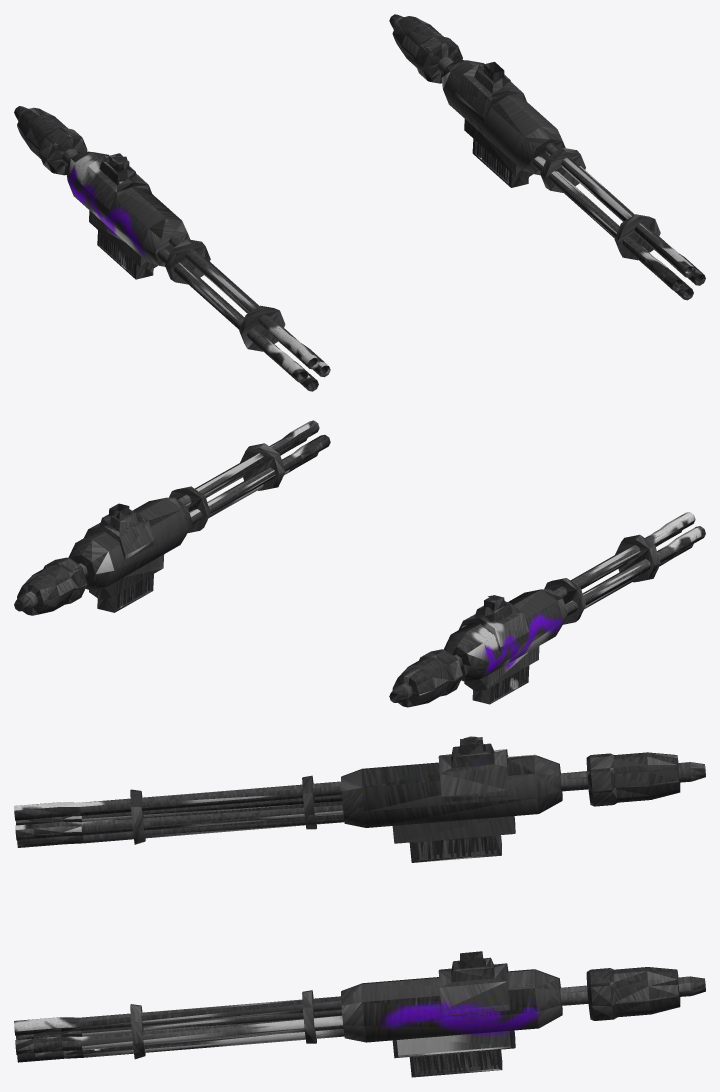
The model's file is LowerCannons_new.obj.
3 views of the same model, one above another, from view 1: azimuth 30°, elevation 25°; view 2: azimuth 150°, elevation 25°; view 3: azimuth 270°, elevation 25° (orthographic). The views are drawn at different scales.
Visible parts, largest first — view 1: mech_f_432:Mesh.001; view 2: mech_f_432:Mesh.001; view 3: mech_f_432:Mesh.001.
Part boxes in pixels (x1=…): mech_f_432:Mesh.001: x1=14, y1=14, x2=705, y2=391; mech_f_432:Mesh.001: x1=14, y1=420, x2=705, y2=707; mech_f_432:Mesh.001: x1=14, y1=736, x2=705, y2=1077.
Size of the model in its own units: 1.9 by 0.4342 by 2.3.
Materials: 1 (1 with a texture image).
